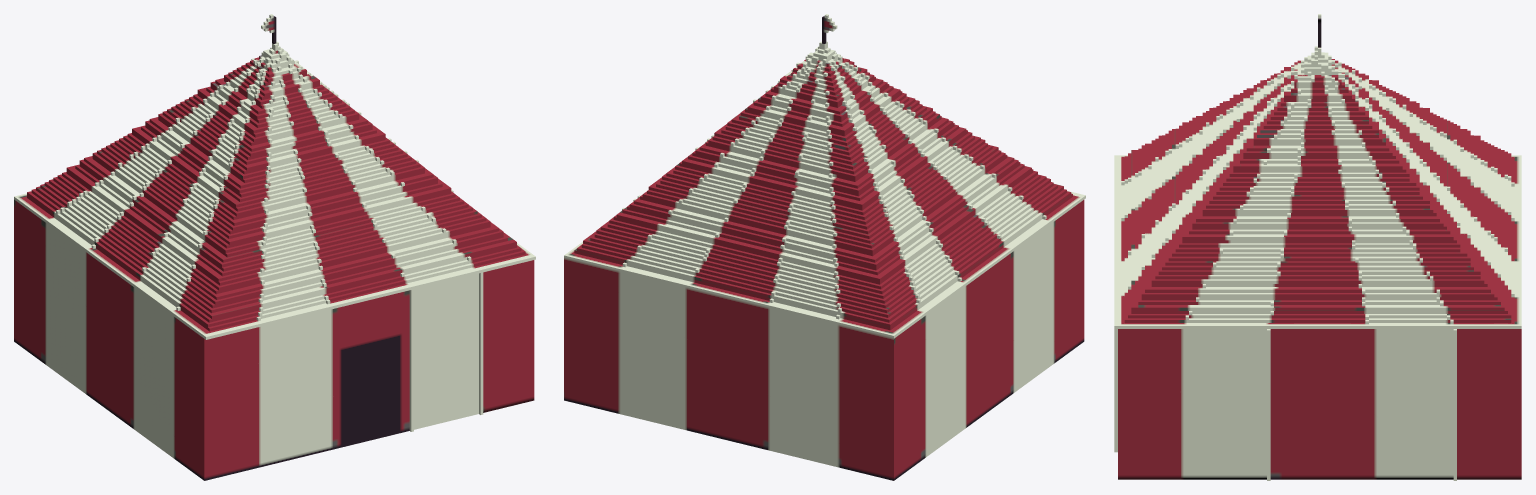
Rendered from CircusSmall.fbx.
3 renders of one model, left to right at view 1: azimuth 30°, elevation 25°; view 2: azimuth 150°, elevation 25°; view 3: azimuth 270°, elevation 25°, orthographic. The views are drawn at different scales.
Parts seen in each view (by area): view 1: Object; view 2: Object; view 3: Object.
Boxes of the visible parts, bbox=[...] form: Object: bbox=[14, 14, 535, 480]; Object: bbox=[564, 14, 1085, 480]; Object: bbox=[1114, 14, 1521, 480].
Size of the model in its own units: 120 by 123 by 120.
